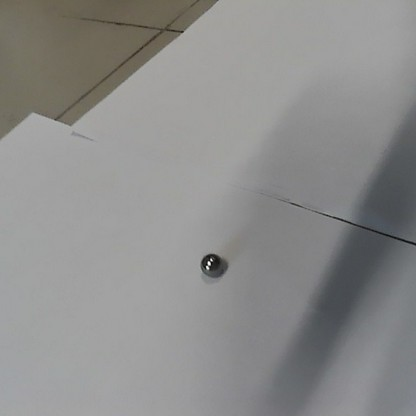ironball: (199, 249, 225, 278)
